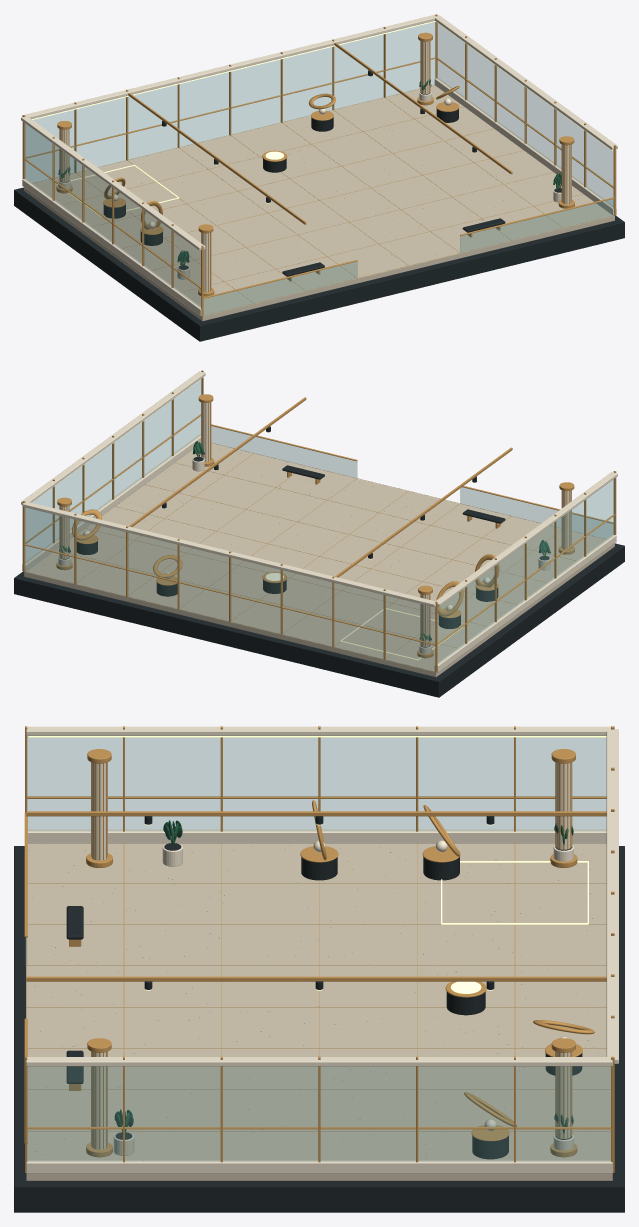
The model's file is world-0.glb.
3 renders of one model, top to bottom at view 1: azimuth 30°, elevation 25°; view 2: azimuth 150°, elevation 25°; view 3: azimuth 270°, elevation 25°, orthographic. The views are drawn at different scales.
Parts seen in each view (by area): view 1: World_FloorStone, World_Glass, World_Obsidian, World_ArchitecturalMetal, World_Architecture, World_WarmLight; view 2: World_FloorStone, World_Glass, World_Obsidian, World_ArchitecturalMetal, World_Architecture, World_WarmLight; view 3: World_FloorStone, World_Glass, World_Architecture, World_Obsidian, World_ArchitecturalMetal, World_WarmLight, World_Foliage.
Part boxes in pixels (x1,y1,x2,y2): World_FloorStone: (24, 85, 614, 321); World_Glass: (24, 22, 613, 315); World_Obsidian: (14, 70, 624, 341); World_ArchitecturalMetal: (22, 14, 616, 316); World_Architecture: (21, 14, 617, 316); World_WarmLight: (32, 21, 612, 216); World_FloorStone: (24, 443, 614, 677); World_Glass: (25, 379, 614, 671); World_Obsidian: (14, 426, 624, 697); World_ArchitecturalMetal: (22, 370, 616, 672); World_Architecture: (21, 371, 617, 672); World_WarmLight: (32, 377, 476, 660); World_FloorStone: (26, 843, 612, 1180); World_Glass: (25, 736, 610, 1161); World_Architecture: (26, 726, 618, 1173); World_Obsidian: (14, 816, 624, 1212); World_ArchitecturalMetal: (24, 726, 614, 1172); World_WarmLight: (28, 736, 606, 993); World_Foliage: (114, 820, 573, 1133).
Size of the model in its own units: 33 by 6.8 by 25.
